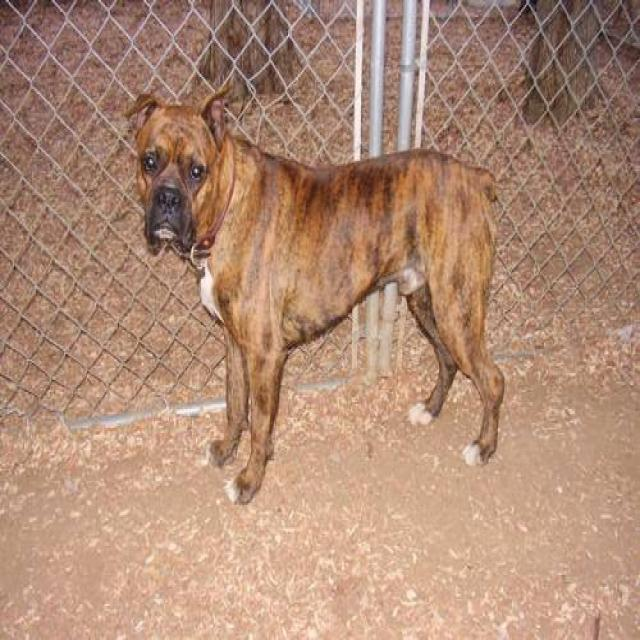dog: (123, 77, 505, 505)
